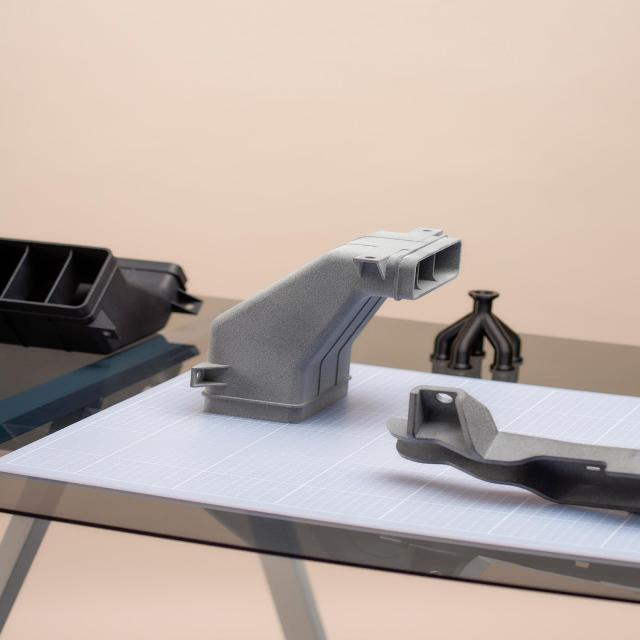Without deffect: (182, 200, 464, 452)
